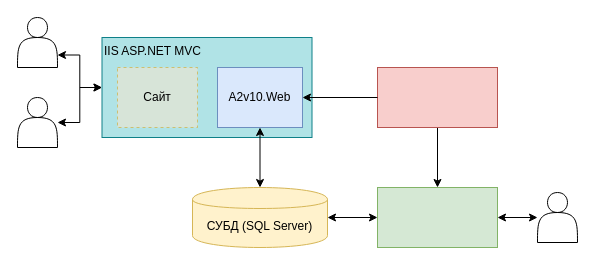
The diagram is 595 pixels wide and 265 high, and some of its shapes have lost their labels. Here are the shapes that lost their labels. From the top down, the centre of each, then its label:
the point at 437,97: Прикладное приложение
the point at 437,217: A2v10.Desktop
